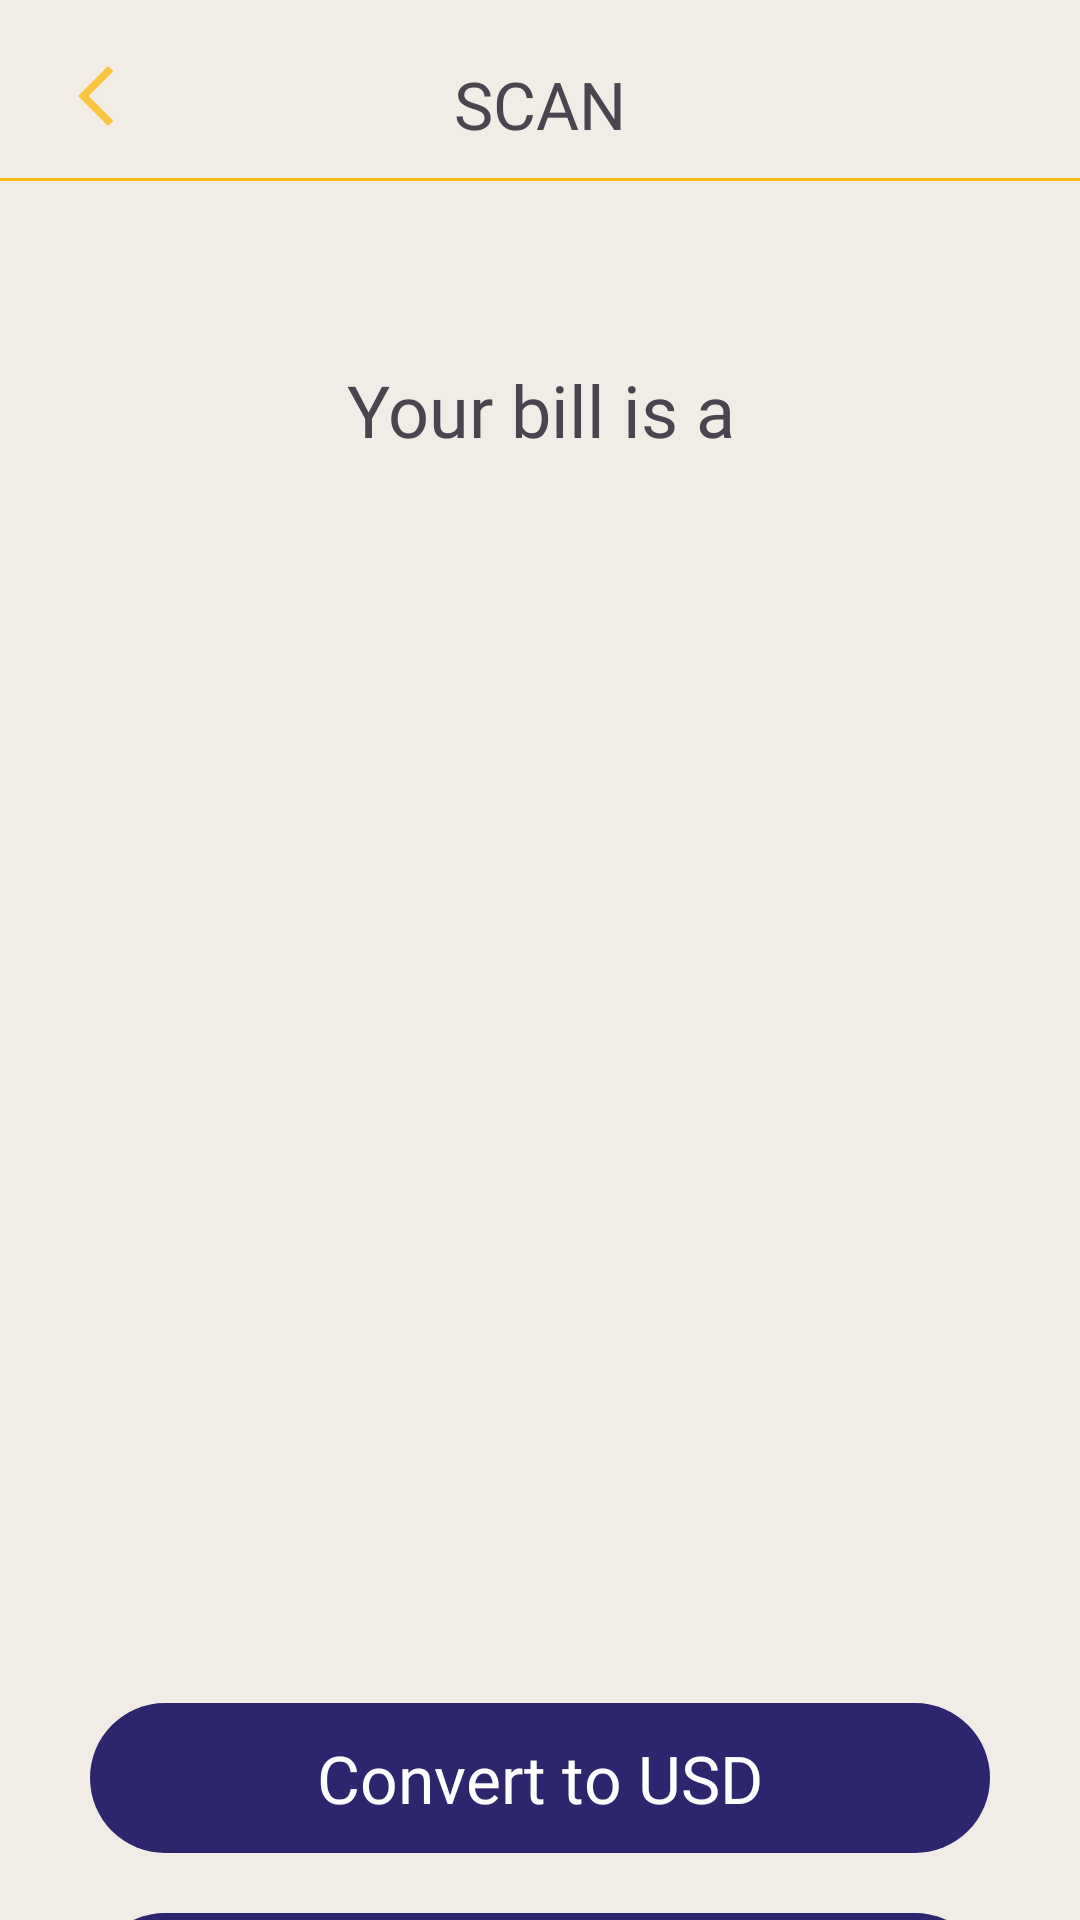

Icon bounding boxes for this 1080×1920 phone screenshot, format (x1, y1, x2, y2):
back: (78, 66, 113, 126)
